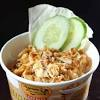ayam_geprek: (21, 43, 83, 78)
